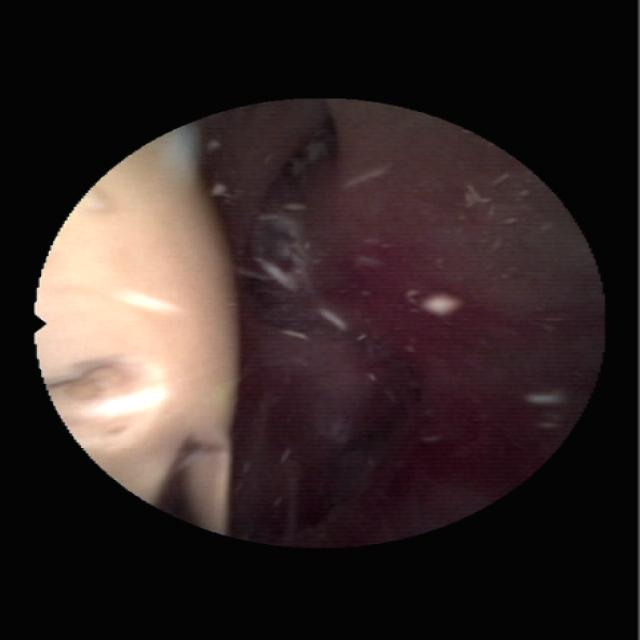stone: (41, 126, 241, 531), (420, 292, 464, 313)
tissue: (215, 107, 596, 542)
